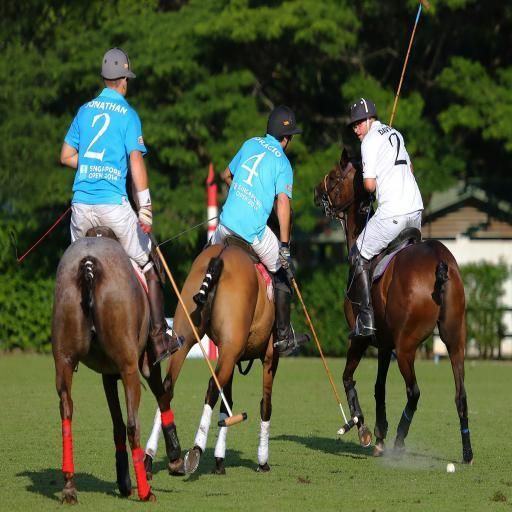horse: (312, 146, 474, 466), (48, 162, 185, 506), (142, 195, 292, 481)
